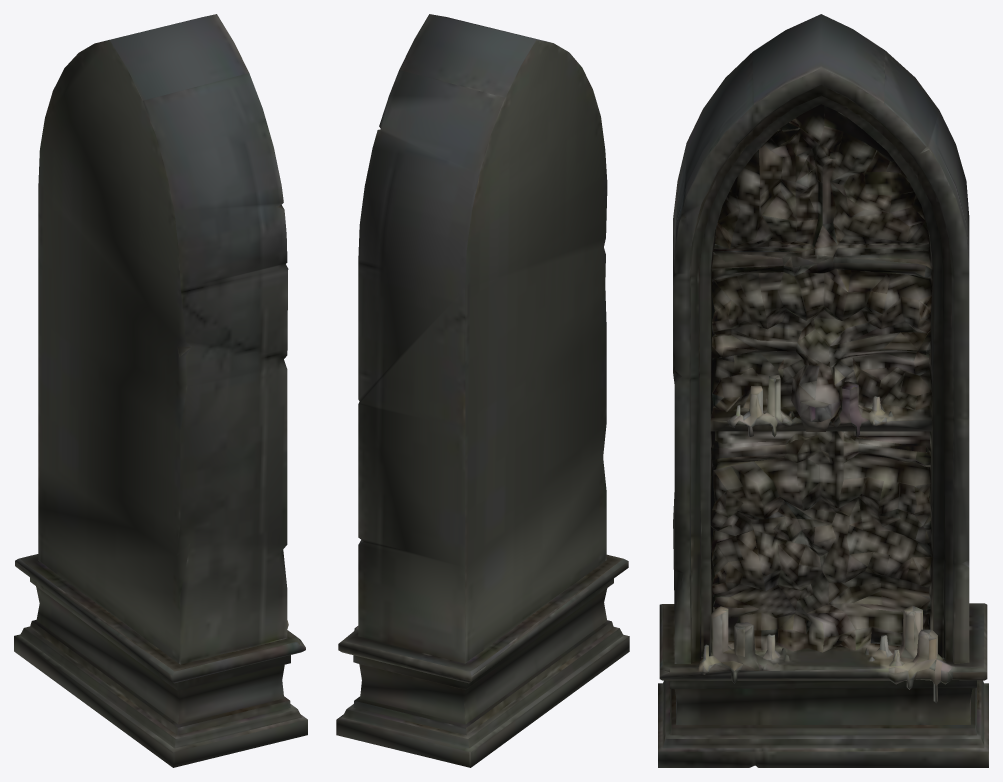
The model's file is skull_niche.glb.
3 views of the same model, side by side, from view 1: azimuth 30°, elevation 25°; view 2: azimuth 150°, elevation 25°; view 3: azimuth 270°, elevation 25° (orthographic). The views are drawn at different scales.
Visible parts, largest first — view 1: tripo_node_6a427169-ed50-4ed5-8646-5aed86f6f6bc; view 2: tripo_node_6a427169-ed50-4ed5-8646-5aed86f6f6bc; view 3: tripo_node_6a427169-ed50-4ed5-8646-5aed86f6f6bc.
Part boxes in pixels (x1,y1,x2,y2): tripo_node_6a427169-ed50-4ed5-8646-5aed86f6f6bc: (14,14,307,767); tripo_node_6a427169-ed50-4ed5-8646-5aed86f6f6bc: (336,14,629,767); tripo_node_6a427169-ed50-4ed5-8646-5aed86f6f6bc: (658,14,988,767).
Bounding box in the file's own units: 0.2206 × 0.998 × 0.4316.
1 material, 1 textured.
